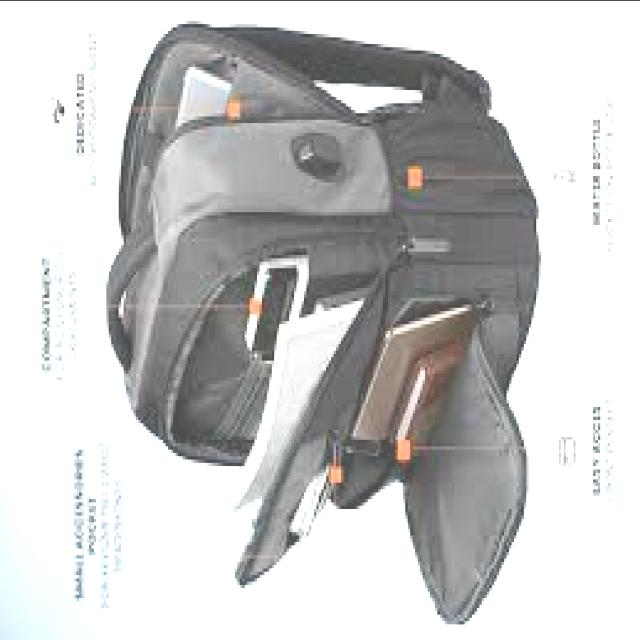backpack: (105, 24, 540, 628)
